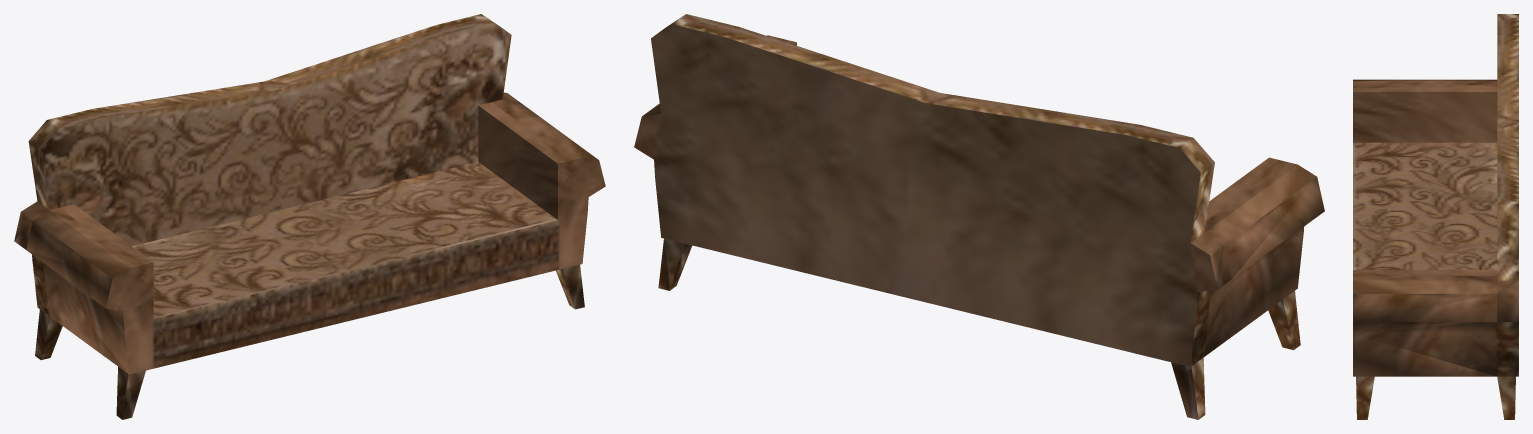
Rendered from sofa_c.glb.
3 renders of one model, left to right at view 1: azimuth 30°, elevation 25°; view 2: azimuth 150°, elevation 25°; view 3: azimuth 270°, elevation 25°, orthographic. The views are drawn at different scales.
Parts seen in each view (by area): view 1: sofa_c; view 2: sofa_c; view 3: sofa_c.
Boxes of the visible parts, box(x1,y1,x2,y2) form: sofa_c: box(14, 14, 605, 419); sofa_c: box(634, 14, 1324, 419); sofa_c: box(1353, 14, 1518, 419).
Bounding box in the file's own units: 2.81 × 1.24 × 0.8927.
Materials: 1 (1 with a texture image).
